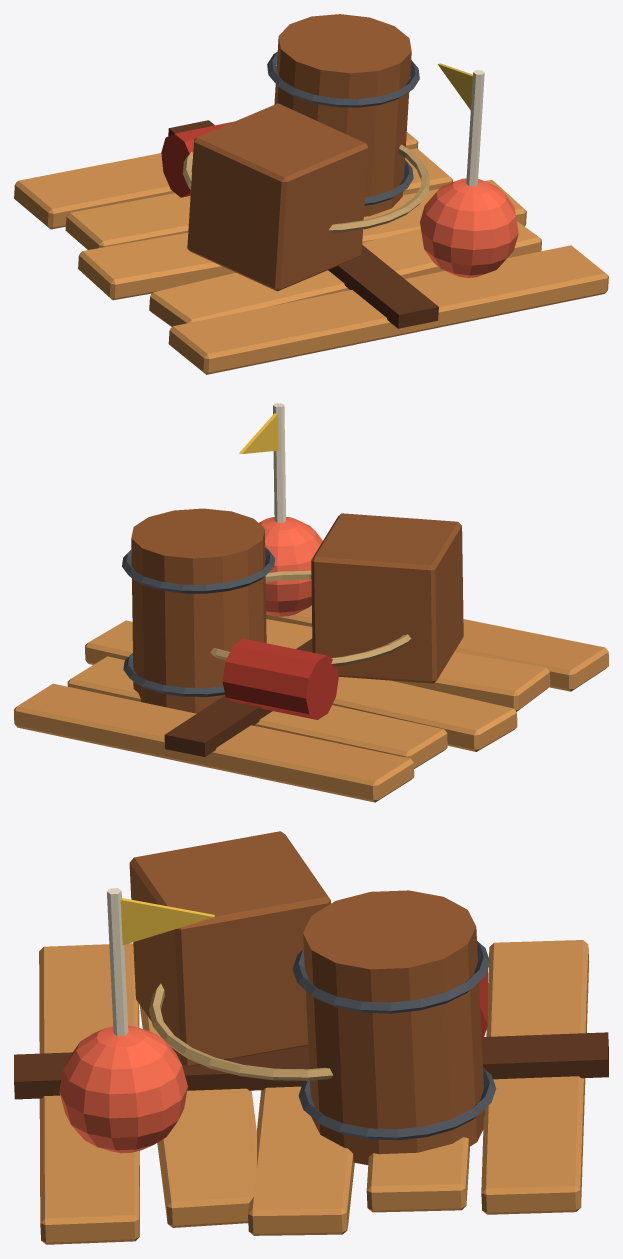
File: floating_salvage.web-pbr.glb
The picture shows the model from 3 angles, top to bottom: view 1: azimuth 30°, elevation 25°; view 2: azimuth 150°, elevation 25°; view 3: azimuth 270°, elevation 25°; orthographic projection. The views are drawn at different scales.
Parts seen in each view (by area): view 1: floating_salvage_mesh; view 2: floating_salvage_mesh; view 3: floating_salvage_mesh.
Part boxes in pixels (x1,y1,x2,y2): floating_salvage_mesh: [14, 14, 608, 374]; floating_salvage_mesh: [14, 403, 608, 802]; floating_salvage_mesh: [14, 831, 608, 1244].
Size of the model in its own units: 2.45 by 1.3 by 2.4.
1 material, 1 textured.
